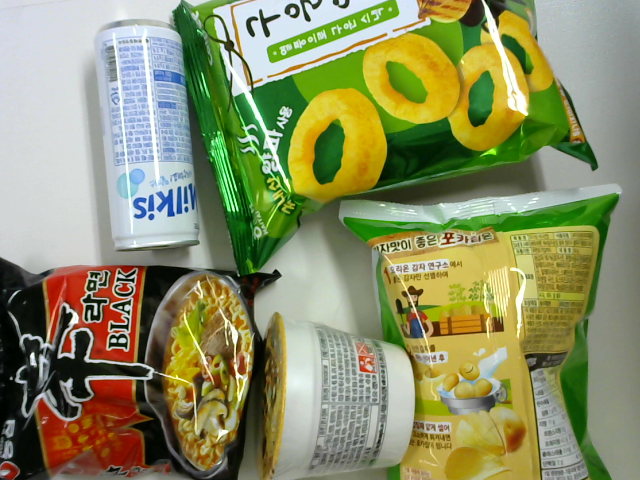Grilled_Onions: (175, 4, 605, 272)
Hejangmini: (255, 312, 412, 480)
Milkies_250ml: (87, 14, 203, 256)
Pocachip_Onion: (341, 192, 614, 480)
Sinramen_Black: (1, 252, 275, 480)
